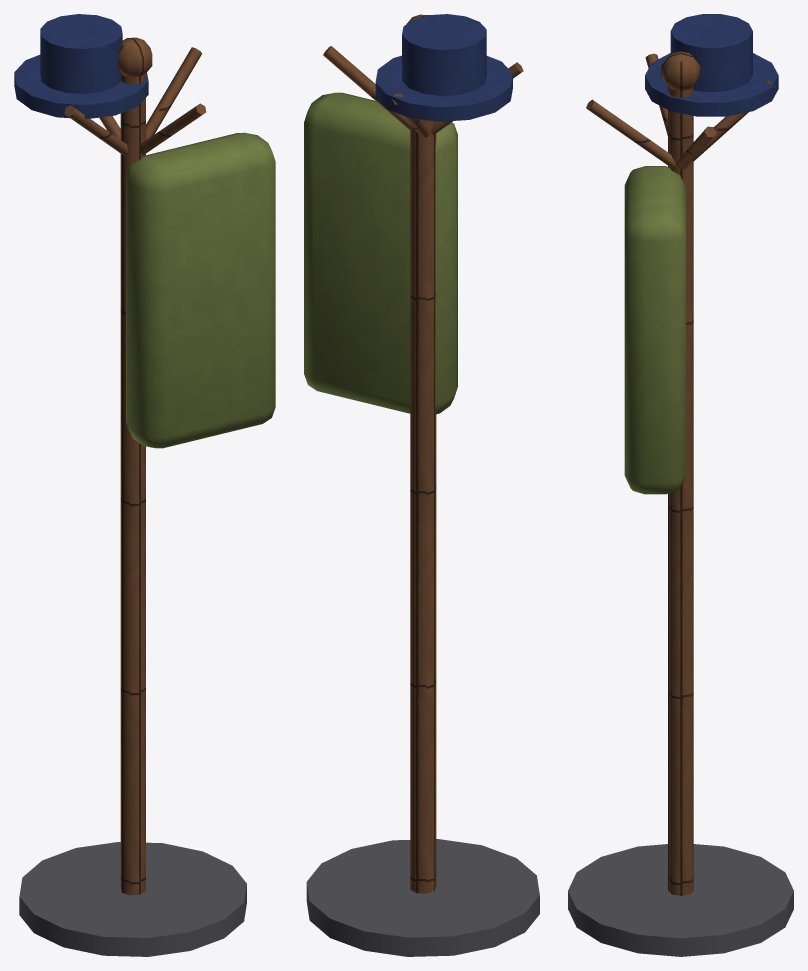
The picture shows the model from 3 angles, left to right: view 1: azimuth 30°, elevation 25°; view 2: azimuth 150°, elevation 25°; view 3: azimuth 270°, elevation 25°; orthographic projection. The views are drawn at different scales.
Parts seen in each view (by area): view 1: Decor_coat_rack; view 2: Decor_coat_rack; view 3: Decor_coat_rack.
Part boxes in pixels (<box>): Decor_coat_rack: <box>14,14,275,956</box>; Decor_coat_rack: <box>304,14,539,956</box>; Decor_coat_rack: <box>568,14,793,956</box>.
Size of the model in its own units: 0.49 by 1.85 by 0.44.
4 materials, 3 textured.
